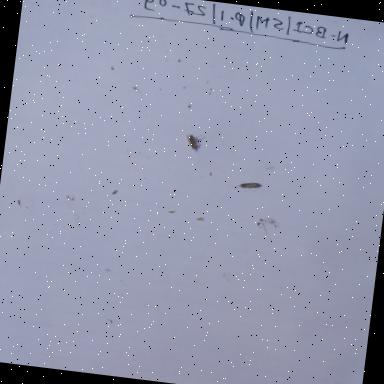pbw: (230, 173, 270, 197), (182, 131, 210, 157)
